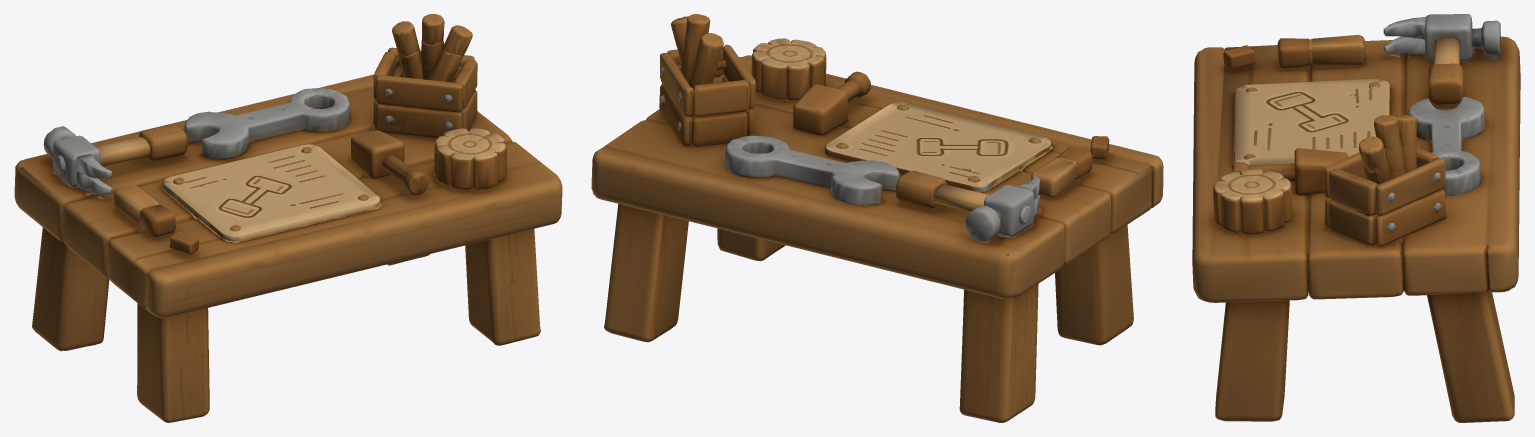
Rendered from workbench.fbx.
3 views of the same model, side by side, from view 1: azimuth 30°, elevation 25°; view 2: azimuth 150°, elevation 25°; view 3: azimuth 270°, elevation 25° (orthographic). The views are drawn at different scales.
Visible parts, largest first — view 1: tripo_node_17406e70; view 2: tripo_node_17406e70; view 3: tripo_node_17406e70.
Boxes of the visible parts, box(x1,y1,x2,y2) form: tripo_node_17406e70: box(14, 14, 562, 422); tripo_node_17406e70: box(591, 14, 1163, 422); tripo_node_17406e70: box(1192, 14, 1520, 422).
Bounding box in the file's own units: 0.998 × 0.6309 × 0.6465.
